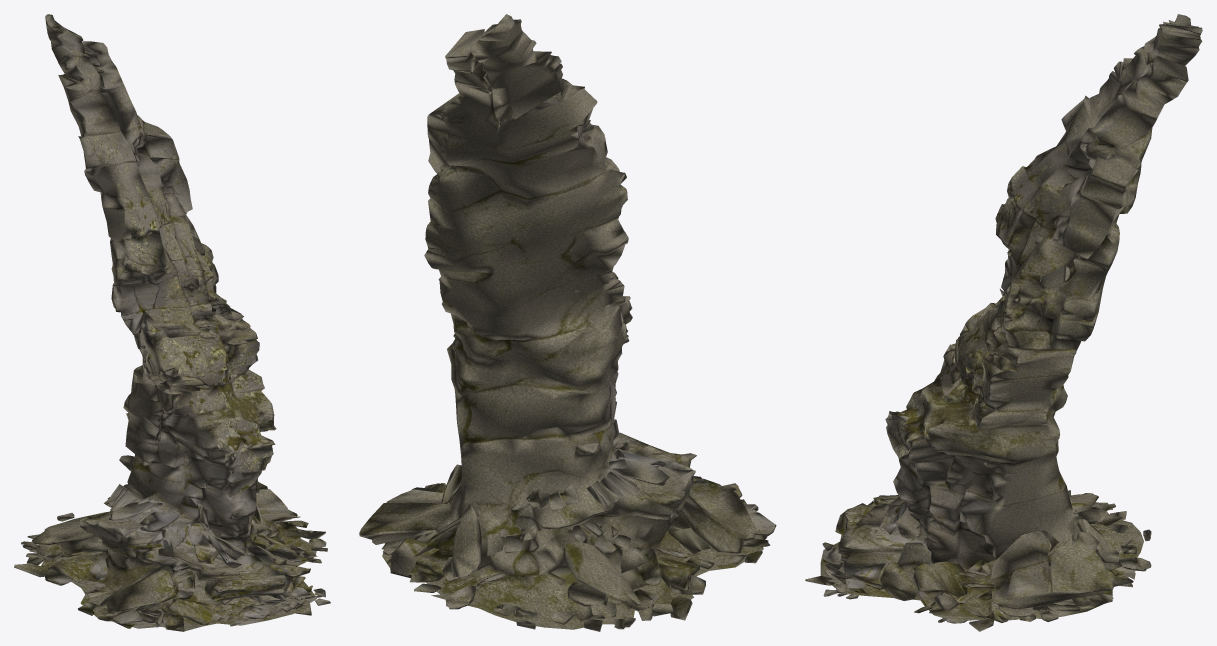
File: nat-rock-b.fbx
3 views of the same model, side by side, from view 1: azimuth 30°, elevation 25°; view 2: azimuth 150°, elevation 25°; view 3: azimuth 270°, elevation 25° (orthographic). The views are drawn at different scales.
Parts seen in each view (by area): view 1: Mesh_0; view 2: Mesh_0; view 3: Mesh_0.
Boxes of the visible parts, x1,y1,x2,y2 form: Mesh_0: (14,14,330,631); Mesh_0: (359,14,776,631); Mesh_0: (805,14,1202,631).
Bounding box in the file's own units: 54.25 × 95.21 × 65.23.
1 material, 1 textured.
